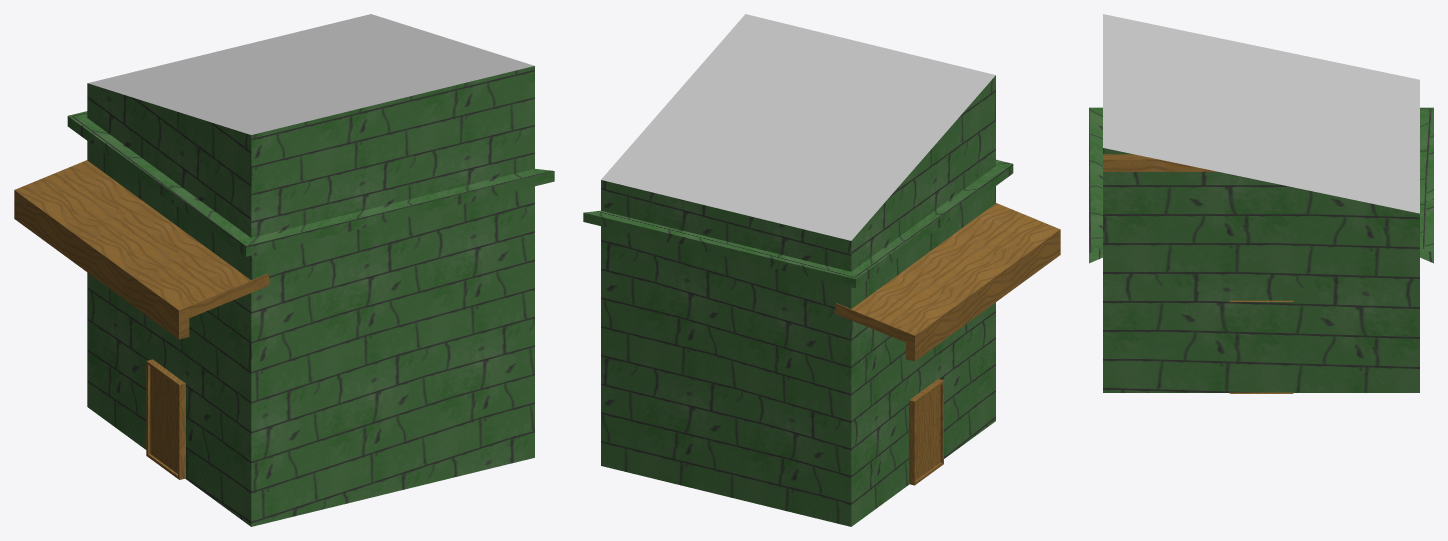
Rendered from Blocos 6.fbx.
3 views of the same model, side by side, from view 1: azimuth 30°, elevation 25°; view 2: azimuth 150°, elevation 25°; view 3: azimuth 270°, elevation 25° (orthographic). The views are drawn at different scales.
Visible parts, largest first — view 1: Loja1; view 2: Loja1; view 3: Loja1.
Part boxes in pixels (<box>): Loja1: <box>14,14,554,526</box>; Loja1: <box>583,14,1060,526</box>; Loja1: <box>1089,14,1433,393</box>.
Bounding box in the file's own units: 1036 × 1052 × 868.
